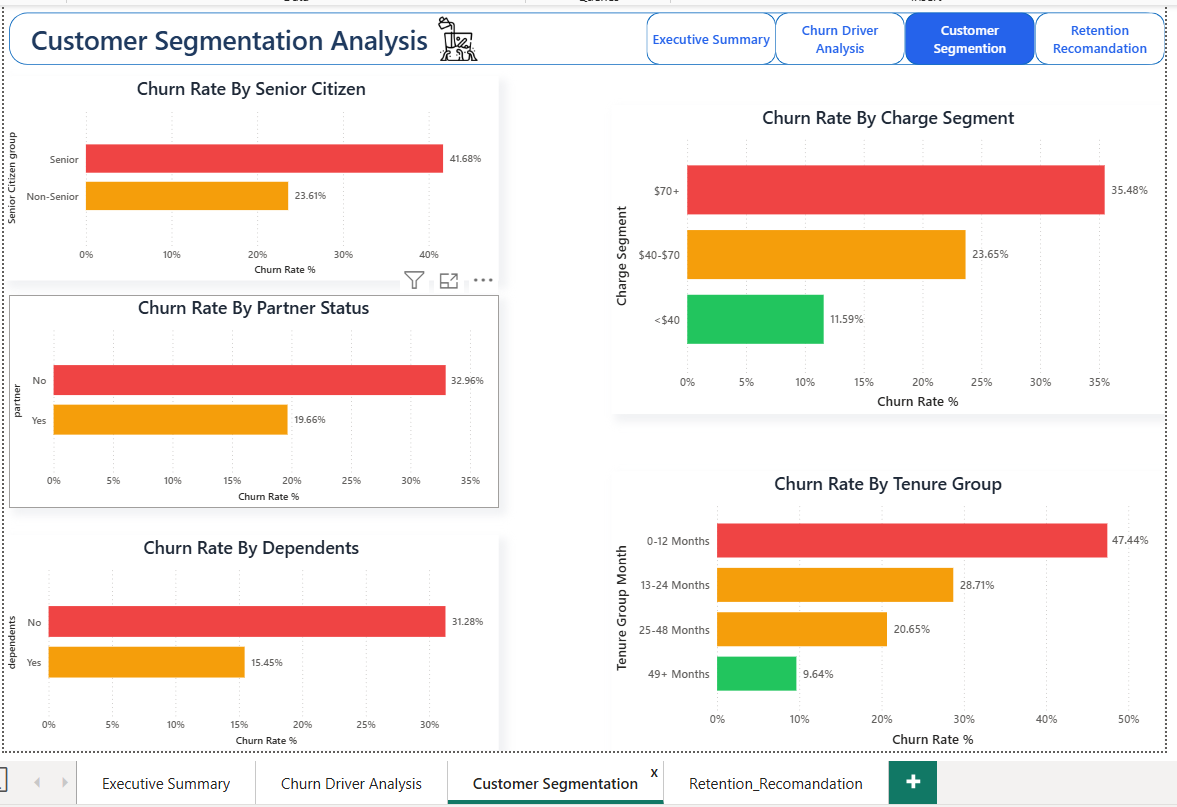

This screenshot's page, from the dashboard's own definition file:
{"tool":"powerbi","page":{"name":"Customer Segmentation","canvas":[1400,900],"ordinal":2},"visuals":[{"type":"shape","box":[6.3,9.5,1393.4,63.1],"z":0},{"type":"clusteredBarChart","title":"Churn Rate By Senior Citizen","fields":{"Y":["Measures Table.Churn Rate %"],"Category":["dim_customer.Senior Citizen group"]},"box":[0,85.2,596.5,246.2],"z":1000},{"type":"clusteredBarChart","title":"Churn Rate By Partner Status","fields":{"Category":["dim_customer.partner"],"Y":["Measures Table.Churn Rate %"]},"box":[6.3,350.3,590.2,255.6],"z":2000},{"type":"barChart","title":"Churn Rate By Dependents","fields":{"Y":["Measures Table.Churn Rate %"],"Category":["dim_customer.dependents"]},"box":[0,639.1,596.5,260.4],"z":3000},{"type":"clusteredBarChart","title":"Churn Rate By Tenure Group ","fields":{"Category":["fact_churn.Tenure Group Month"],"Y":["Measures Table.Churn Rate %"]},"box":[732.2,561.8,667.5,337.7],"z":4000},{"type":"clusteredBarChart","title":"Churn Rate By Charge Segment","fields":{"Category":["fact_churn.Charge Segment"],"Y":["Measures Table.Churn Rate %"]},"box":[732.2,119.9,667.5,372.4],"z":5000},{"type":"shape","box":[1243.5,9.5,156.2,63.1],"z":6000},{"type":"shape","box":[1087.3,9.5,156.2,63.1],"z":7000},{"type":"shape","box":[931,9.5,156.2,63.1],"z":8000},{"type":"shape","box":[774.8,9.5,156.2,63.1],"z":9000},{"type":"image","box":[497.1,9.5,99.4,63.1],"z":10000}]}

Visuals, with their boxes on the page's 1400x900 design canvas (x1, y1, x2, y2). These are canvas units, not pixel positions in the 1177x807 screenshot, which may show the page scaled, cropped or inside an application window:
shape: Rect(6, 10, 1400, 73)
"Churn Rate By Senior Citizen" clusteredBarChart: Rect(0, 85, 596, 331)
"Churn Rate By Partner Status" clusteredBarChart: Rect(6, 350, 596, 606)
"Churn Rate By Dependents" barChart: Rect(0, 639, 596, 900)
"Churn Rate By Tenure Group " clusteredBarChart: Rect(732, 562, 1400, 900)
"Churn Rate By Charge Segment" clusteredBarChart: Rect(732, 120, 1400, 492)
shape: Rect(1244, 10, 1400, 73)
shape: Rect(1087, 10, 1244, 73)
shape: Rect(931, 10, 1087, 73)
shape: Rect(775, 10, 931, 73)
image: Rect(497, 10, 596, 73)
